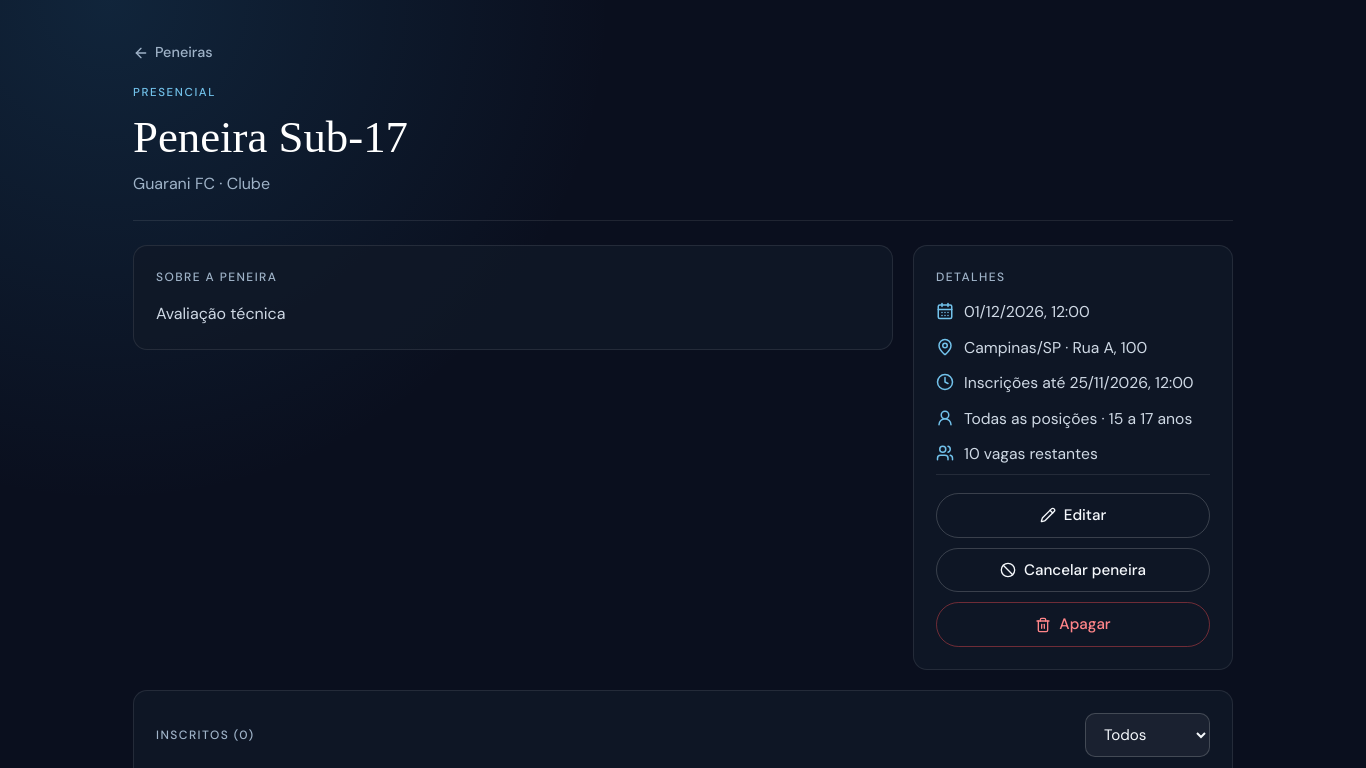
Scenario: OpportunityDetail — dono › Escape fecha o modal sem apagar
Step 1. Click the button "Apagar" → click(1073, 625), box [936,602,1210,647]
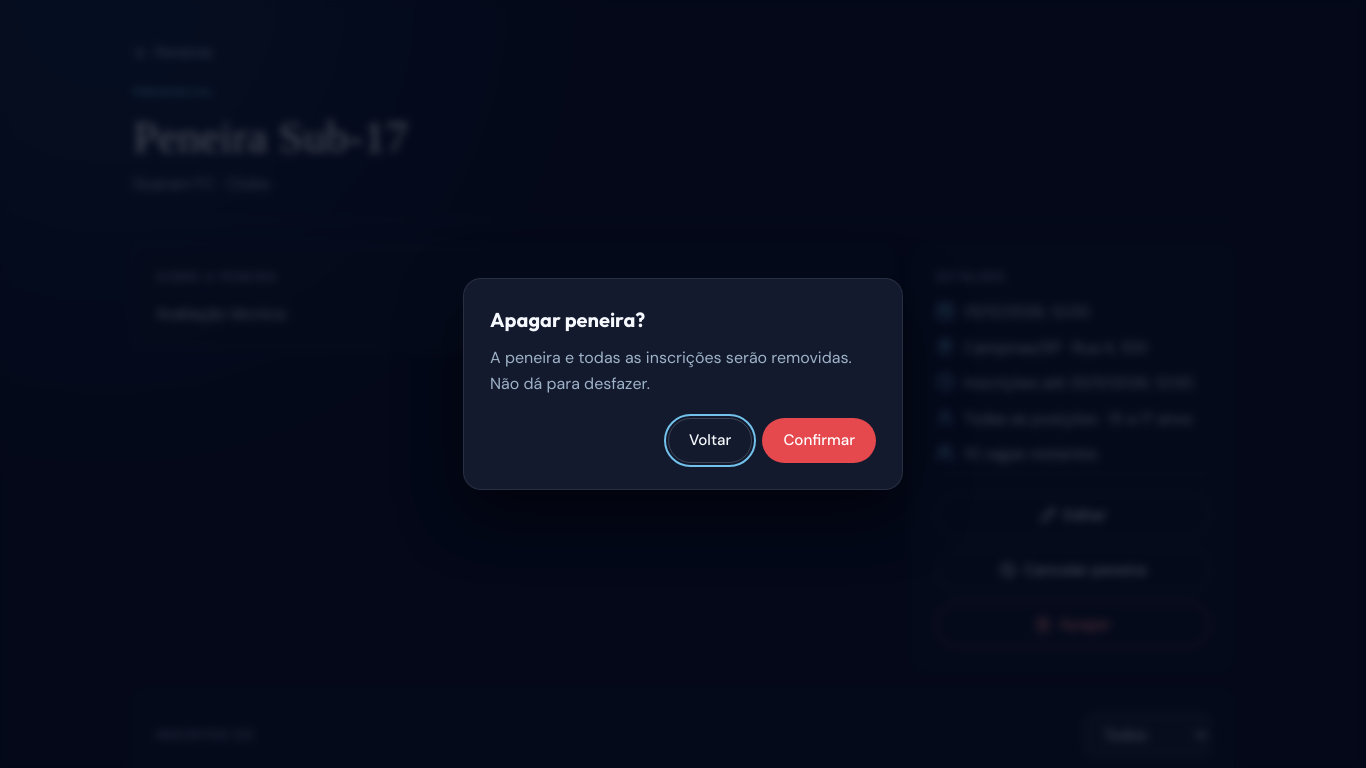
Step 2. Press Escape in the dialog, box [463,278,903,490]
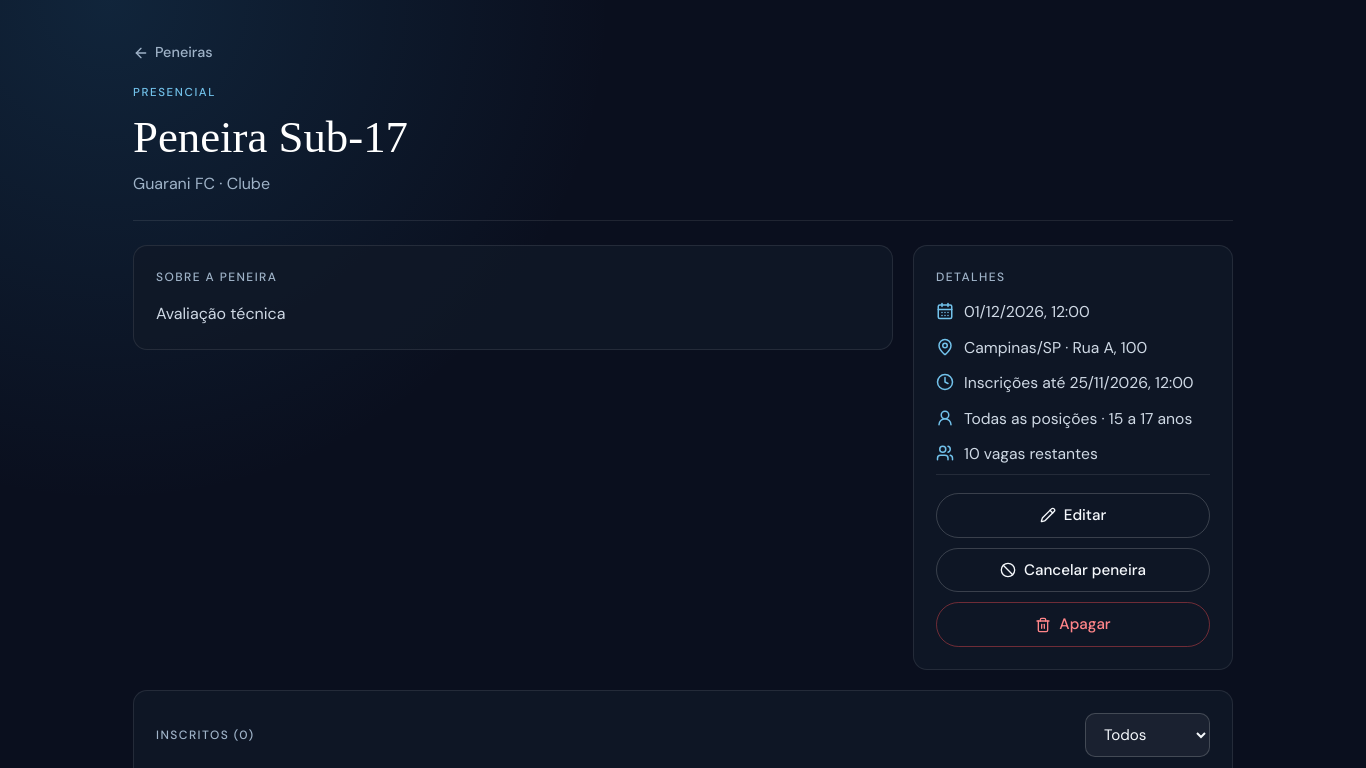
Check: the dialog is gone
